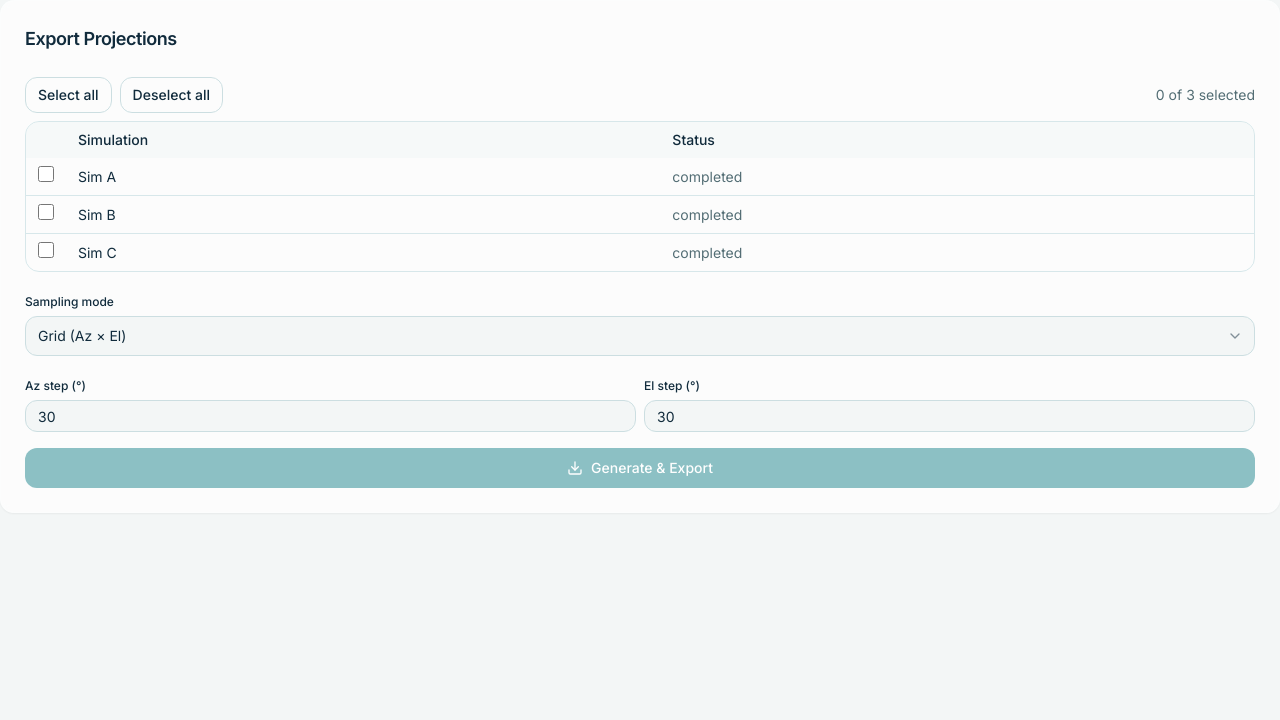
Test: BatchProjectionExportPanel — full failure error (T5.11) › shows error message when export completely fails
Click the button "Select all".
click(68, 95)  # box [25,77,112,113]
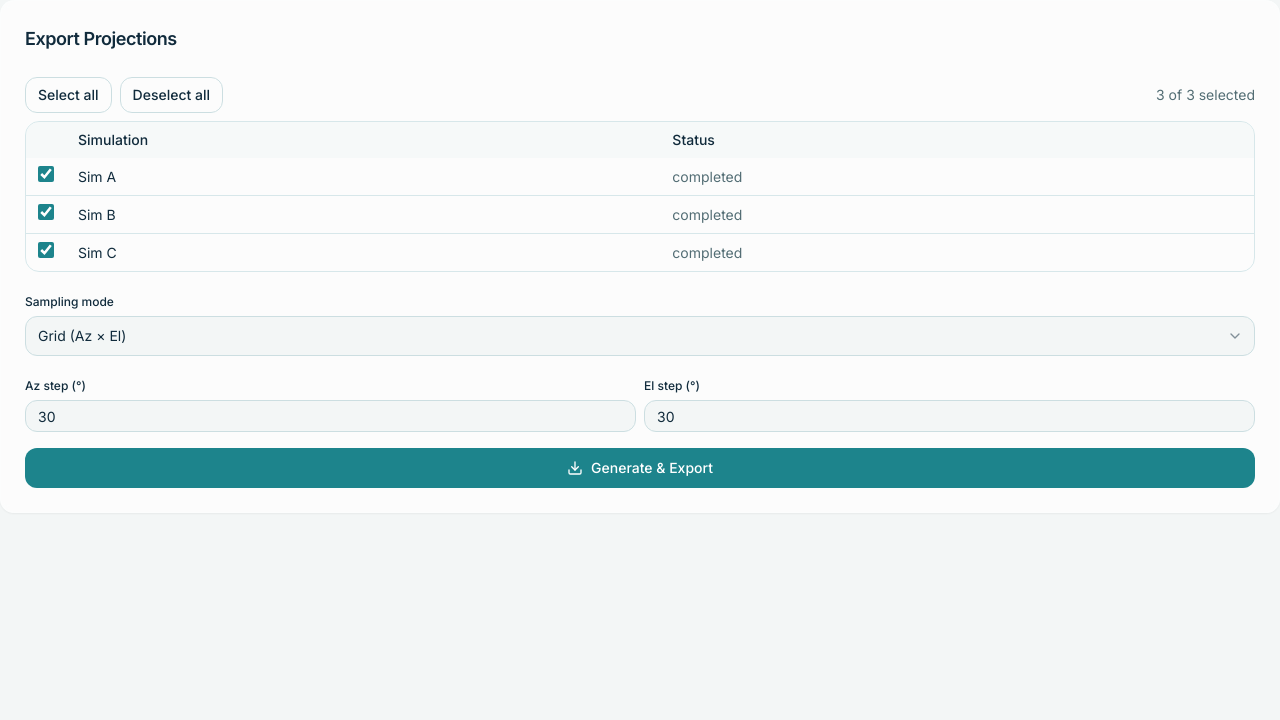
Click the button "Generate & Export".
click(640, 468)  # box [25,448,1255,488]
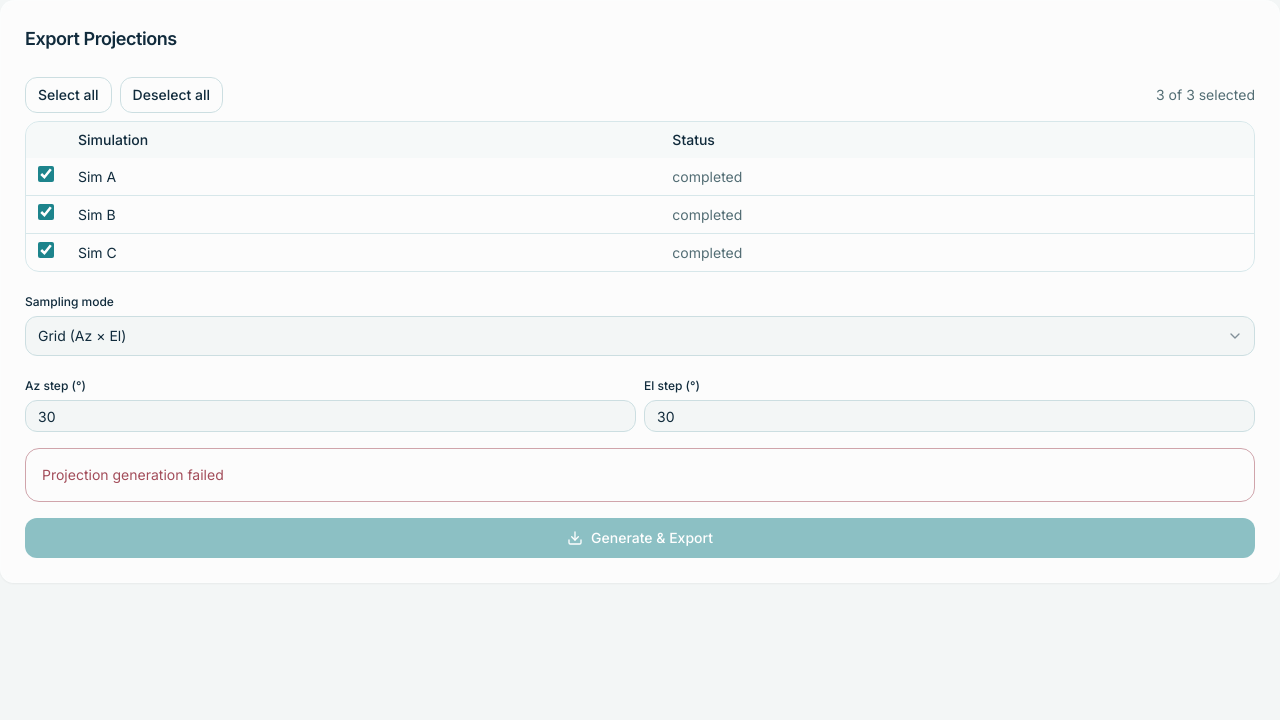
Expected: the text "Projection generation failed" is shown, [42,466,224,483]
